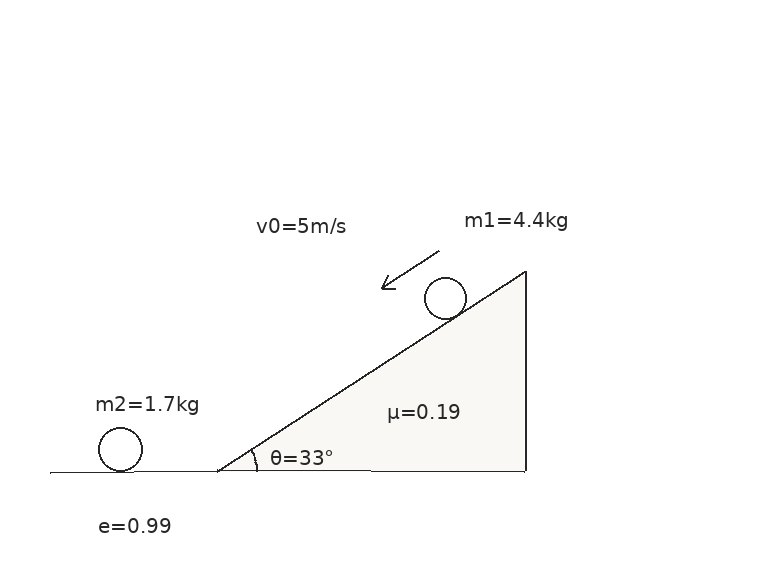ball: (96, 425, 144, 473), (422, 275, 468, 321)
ramp: (215, 270, 526, 473)
